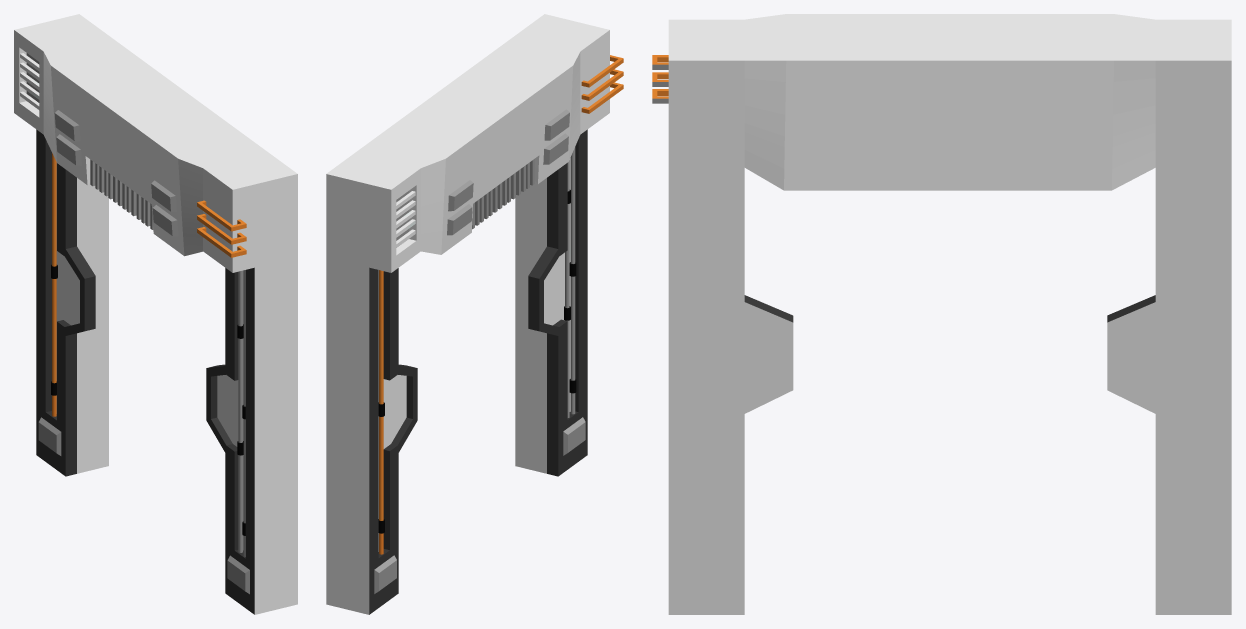
The model's file is F_Door_01.fbx.
The picture shows the model from 3 angles, left to right: view 1: azimuth 30°, elevation 25°; view 2: azimuth 150°, elevation 25°; view 3: azimuth 270°, elevation 25°; orthographic projection. The views are drawn at different scales.
Parts seen in each view (by area): view 1: F_Door_01; view 2: F_Door_01; view 3: F_Door_01.
Part boxes in pixels (bbox=[...]): F_Door_01: bbox=[14, 14, 297, 614]; F_Door_01: bbox=[326, 14, 623, 614]; F_Door_01: bbox=[652, 14, 1231, 614].
Size of the model in its own units: 59.57 by 299 by 283.
Materials: 1 (1 with a texture image).
